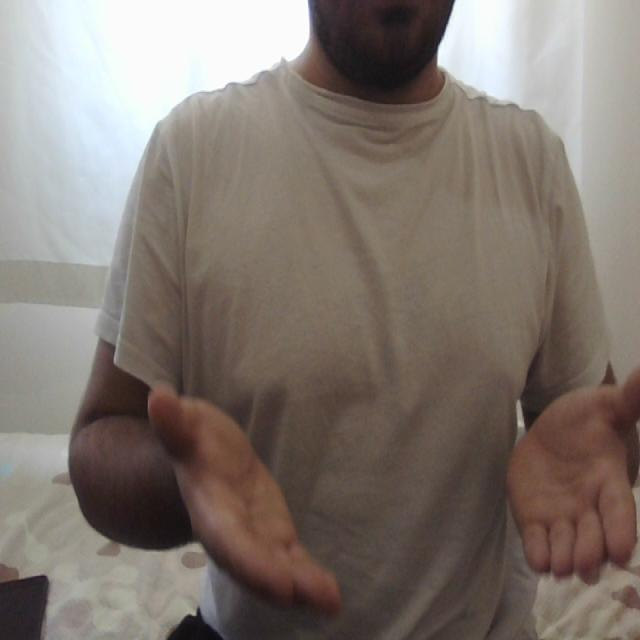Evet: (143, 360, 640, 619)
